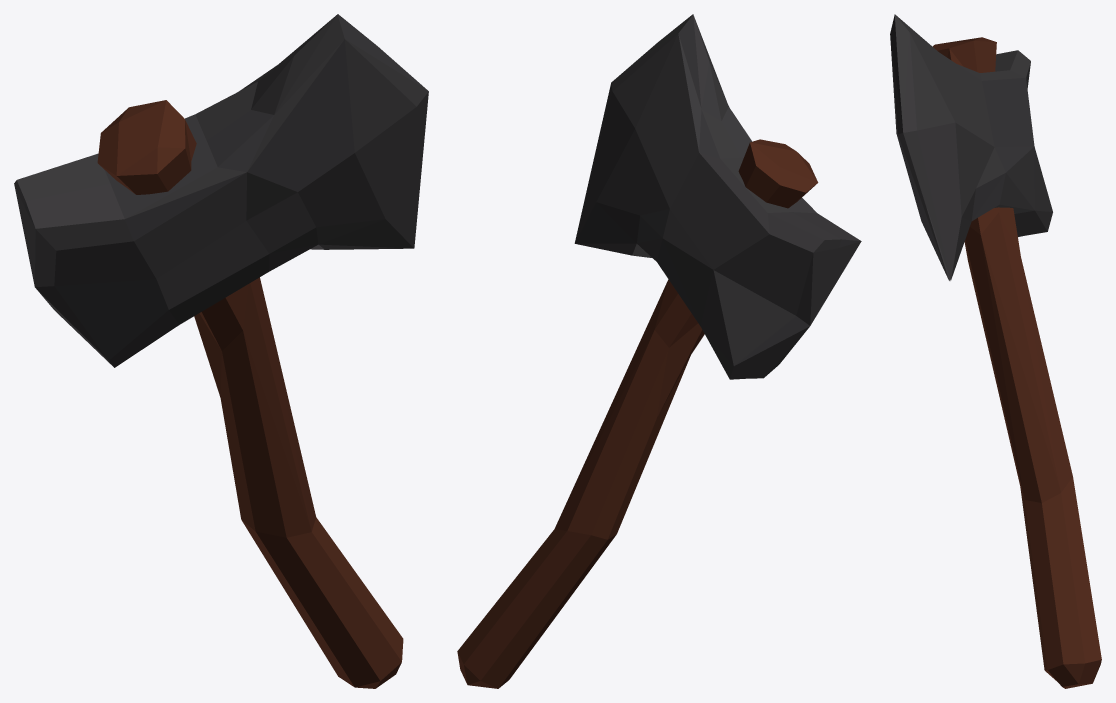
The model's file is T@Axe Idle.FBX.
3 views of the same model, side by side, from view 1: azimuth 30°, elevation 25°; view 2: azimuth 150°, elevation 25°; view 3: azimuth 270°, elevation 25° (orthographic). The views are drawn at different scales.
Parts seen in each view (by area): view 1: axe; view 2: axe; view 3: axe.
Boxes of the visible parts, box(x1,y1,x2,y2) form: axe: box(14, 14, 428, 688); axe: box(457, 14, 861, 688); axe: box(890, 14, 1101, 688).
Size of the model in its own units: 26.21 by 14.3 by 46.12.
